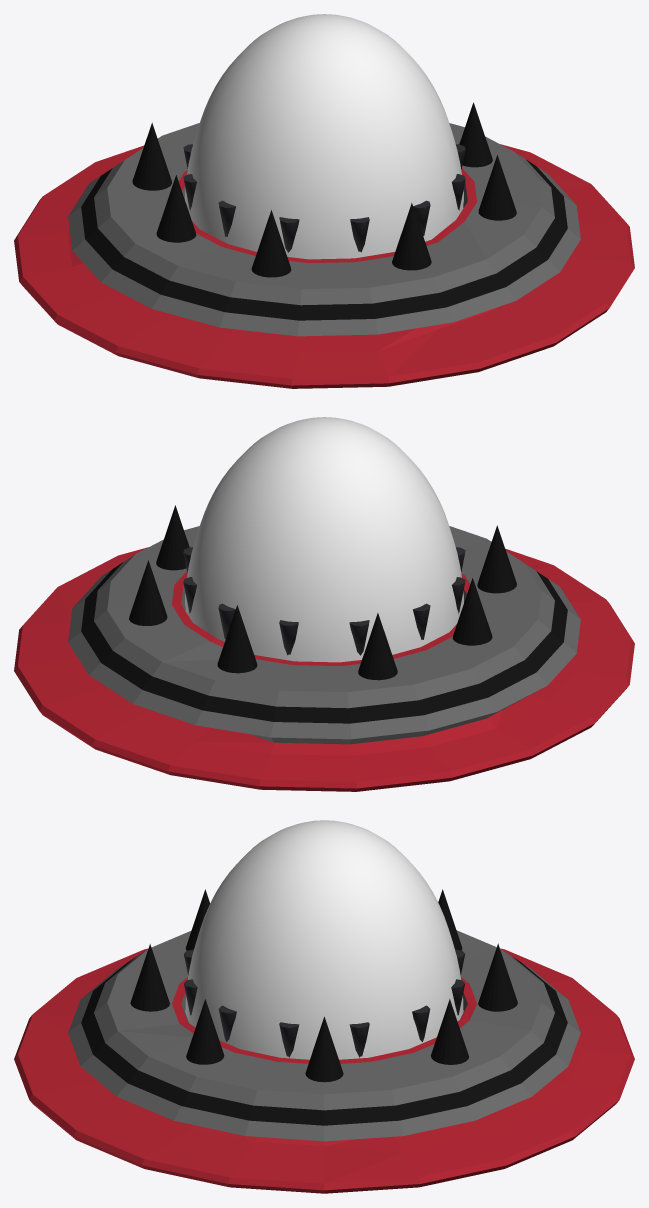
Rendered from glm53_t02.glb.
3 renders of one model, top to bottom at view 1: azimuth 30°, elevation 25°; view 2: azimuth 150°, elevation 25°; view 3: azimuth 270°, elevation 25°, orthographic.
Visible parts, largest first — view 1: slot_anchor_saucer, canopy_dome; view 2: slot_anchor_saucer, canopy_dome; view 3: slot_anchor_saucer, canopy_dome.
Part boxes in pixels (<box>): slot_anchor_saucer: <box>14,102,634,388</box>; canopy_dome: <box>185,14,463,259</box>; slot_anchor_saucer: <box>14,505,634,791</box>; canopy_dome: <box>185,417,463,662</box>; slot_anchor_saucer: <box>14,889,634,1193</box>; canopy_dome: <box>185,820,463,1059</box>.
Bounding box in the file's own units: 2 × 1.15 × 2.
Materials: 3 (1 with a texture image).
